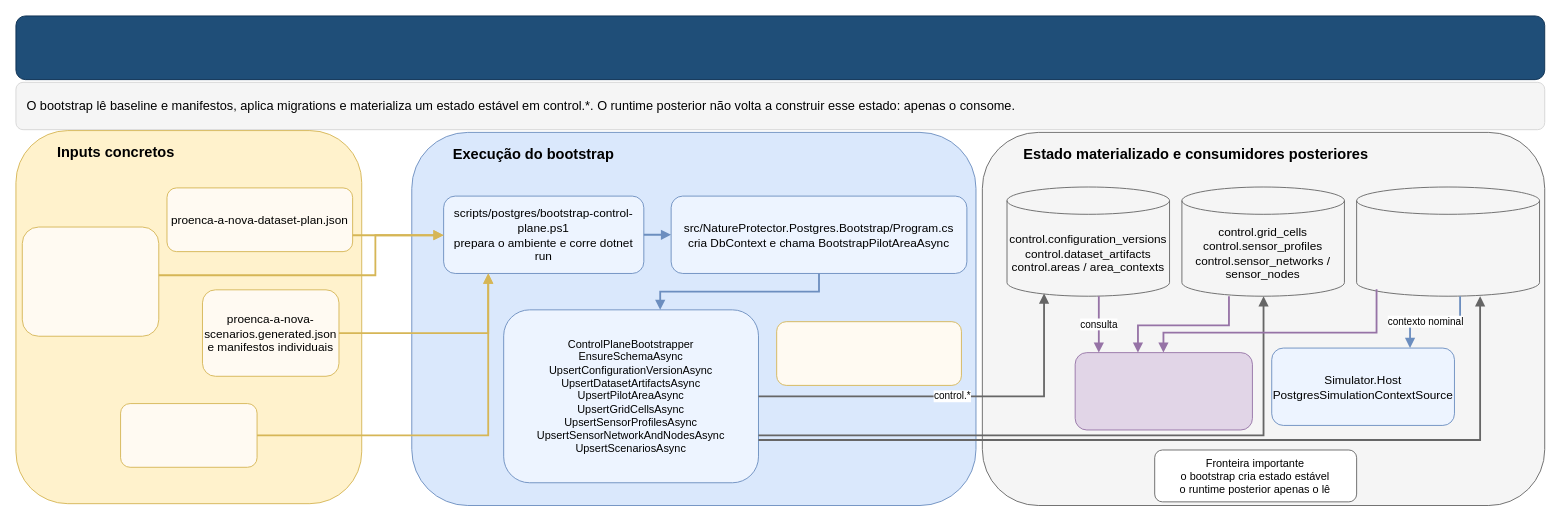
The diagram is 1561 pixels wide and 521 high, and some of its shapes have lost their labels. The shapes that lost their labels are listed below. From the top down, each one's centre as x and y in pixels, then its label:
[780,47]: Bootstrap e materialização do control plane em PostgreSQL
[1448,241]: control.scenario_definitions control.scenario_dataset_bindings
[90,281]: area.geojson grid_1km.geojson cells_attributes.csv manifest.json
[868,353]: Saída local ControlPlaneBootstrapSummary
[1163,391]: Backoffice.Api PostgresControlPlaneService
[188,435]: .env e POSTGRES_* resolução da ligação
